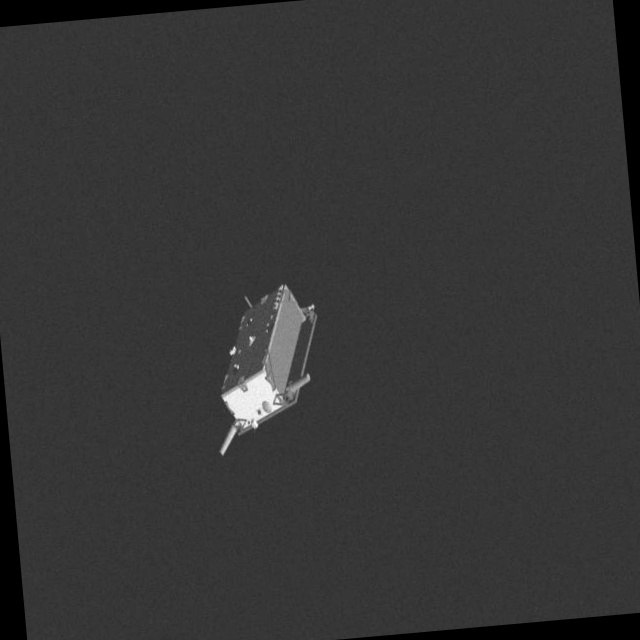satellite: (190, 271, 339, 461)
